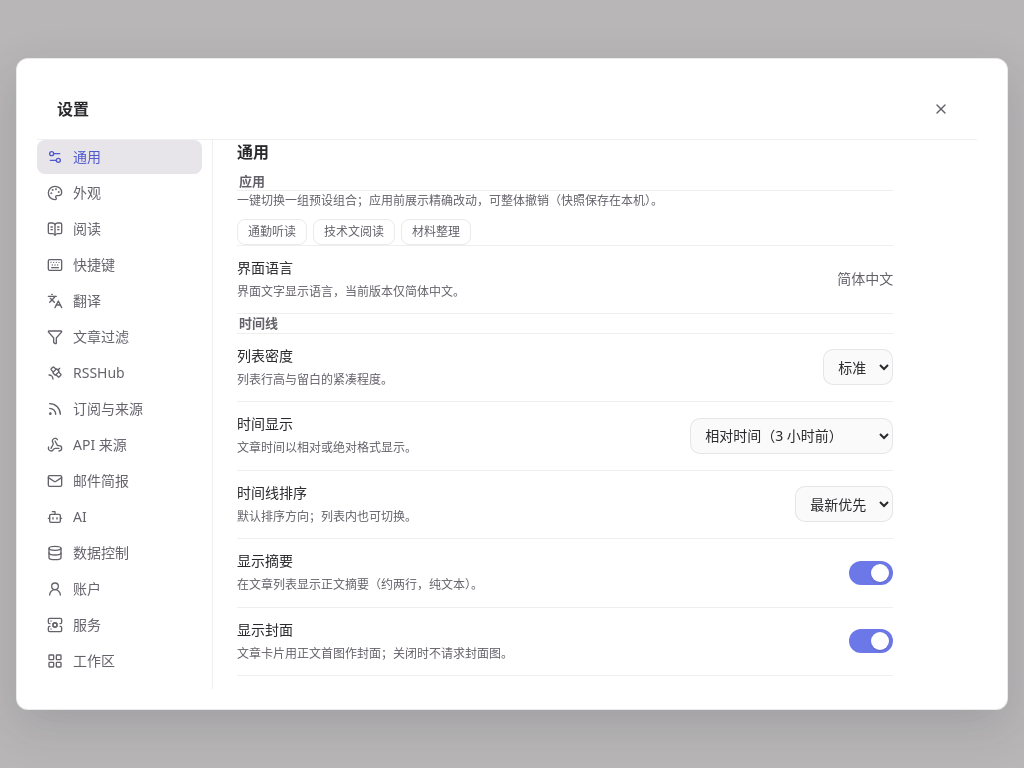
Test: FIX-057 桌面设置中心脏守护 › 有脏分区时切分类先确认；继续编辑留在原分类，放弃后切换
Expected: the heading "通用" is shown, x1=237 y1=141 x2=269 y2=163
点击目标分类 → 先弹「未保存的更改」确认（导航被拦截）。
Click the button "邮件简报".
click(120, 481)  # box x1=37 y1=464 x2=202 y2=498
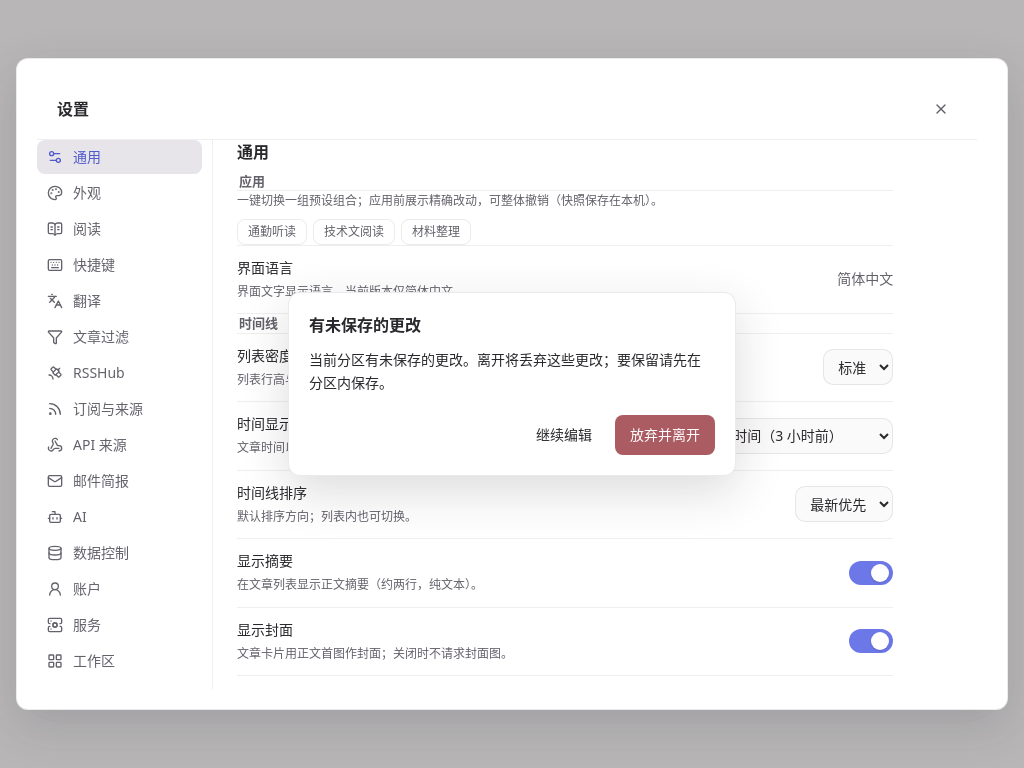
Result: the dialog "有未保存的更改" is shown at x1=288 y1=292 x2=736 y2=476
Click the button "继续编辑".
click(564, 435)  # box x1=521 y1=415 x2=607 y2=455
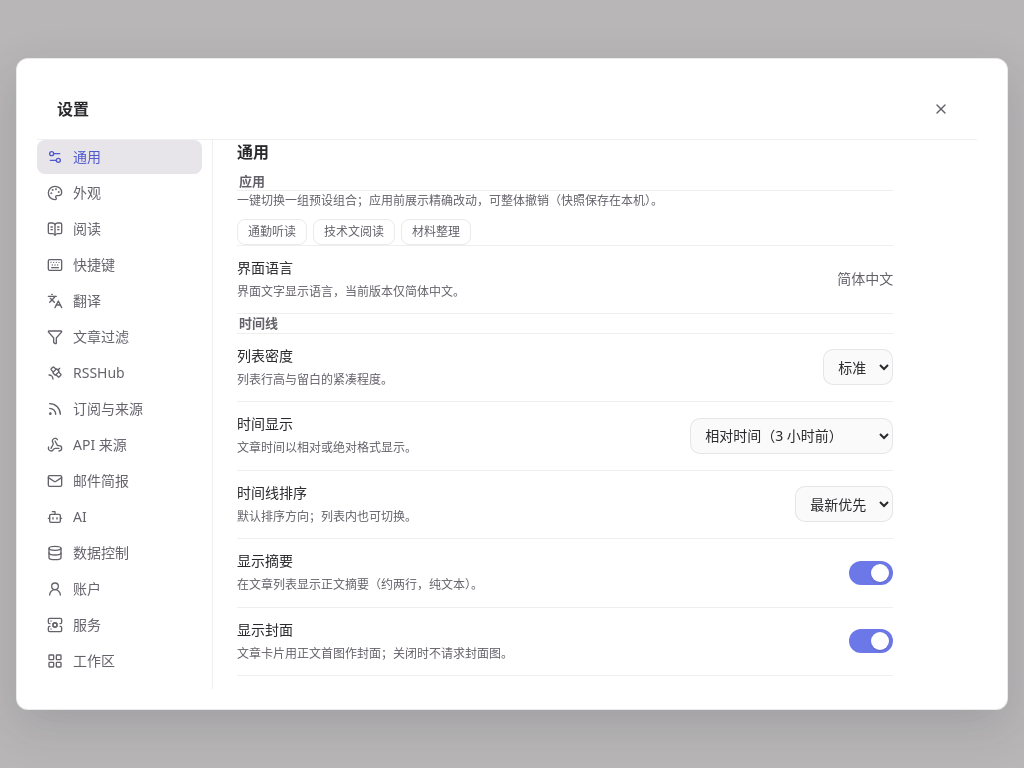
Expected: the heading "通用" is shown, x1=237 y1=141 x2=269 y2=163
Result: the heading "有未保存的更改" is gone
再次导航 → 放弃并离开：切换到目标分类。
Click the button "邮件简报".
click(120, 481)  # box x1=37 y1=464 x2=202 y2=498
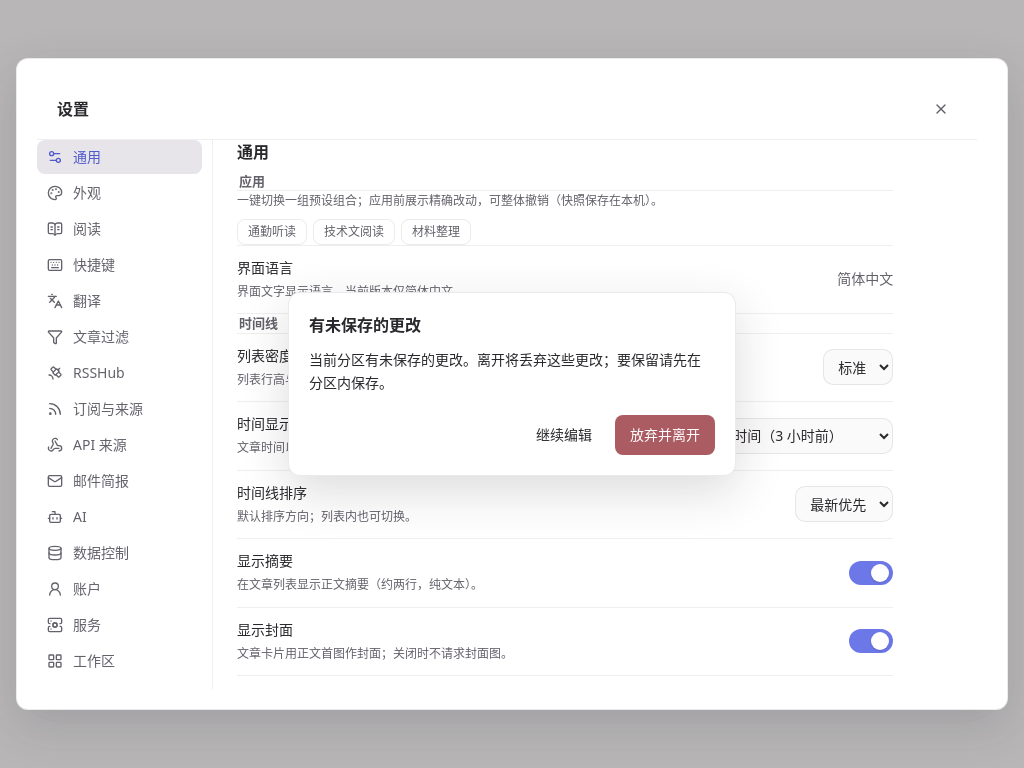
Click the button "放弃并离开".
click(665, 435)  # box x1=615 y1=415 x2=715 y2=455
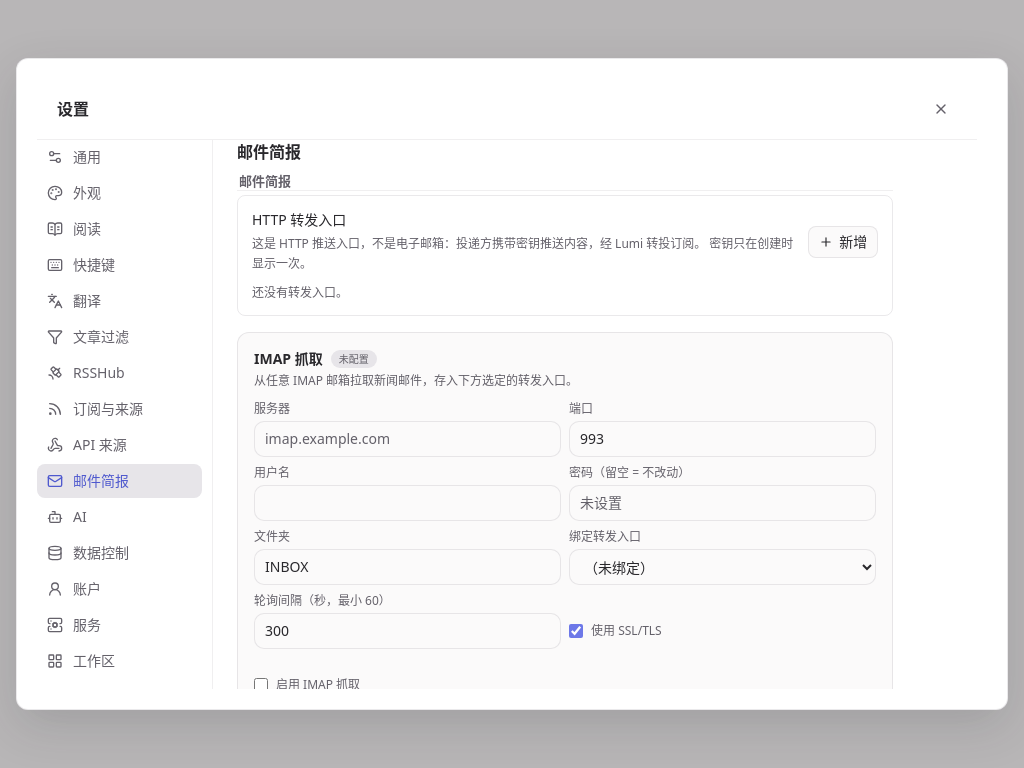
Result: the 1st heading "邮件简报" is shown at x1=237 y1=141 x2=301 y2=163
